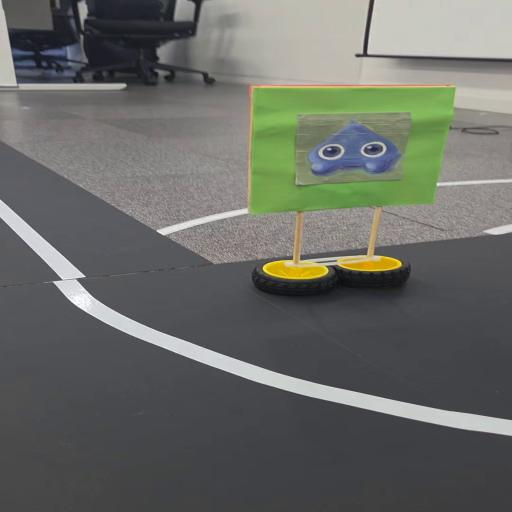Sign_B: (234, 76, 456, 294)
